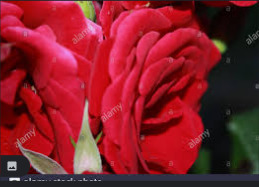RedRose: (102, 0, 221, 174)
